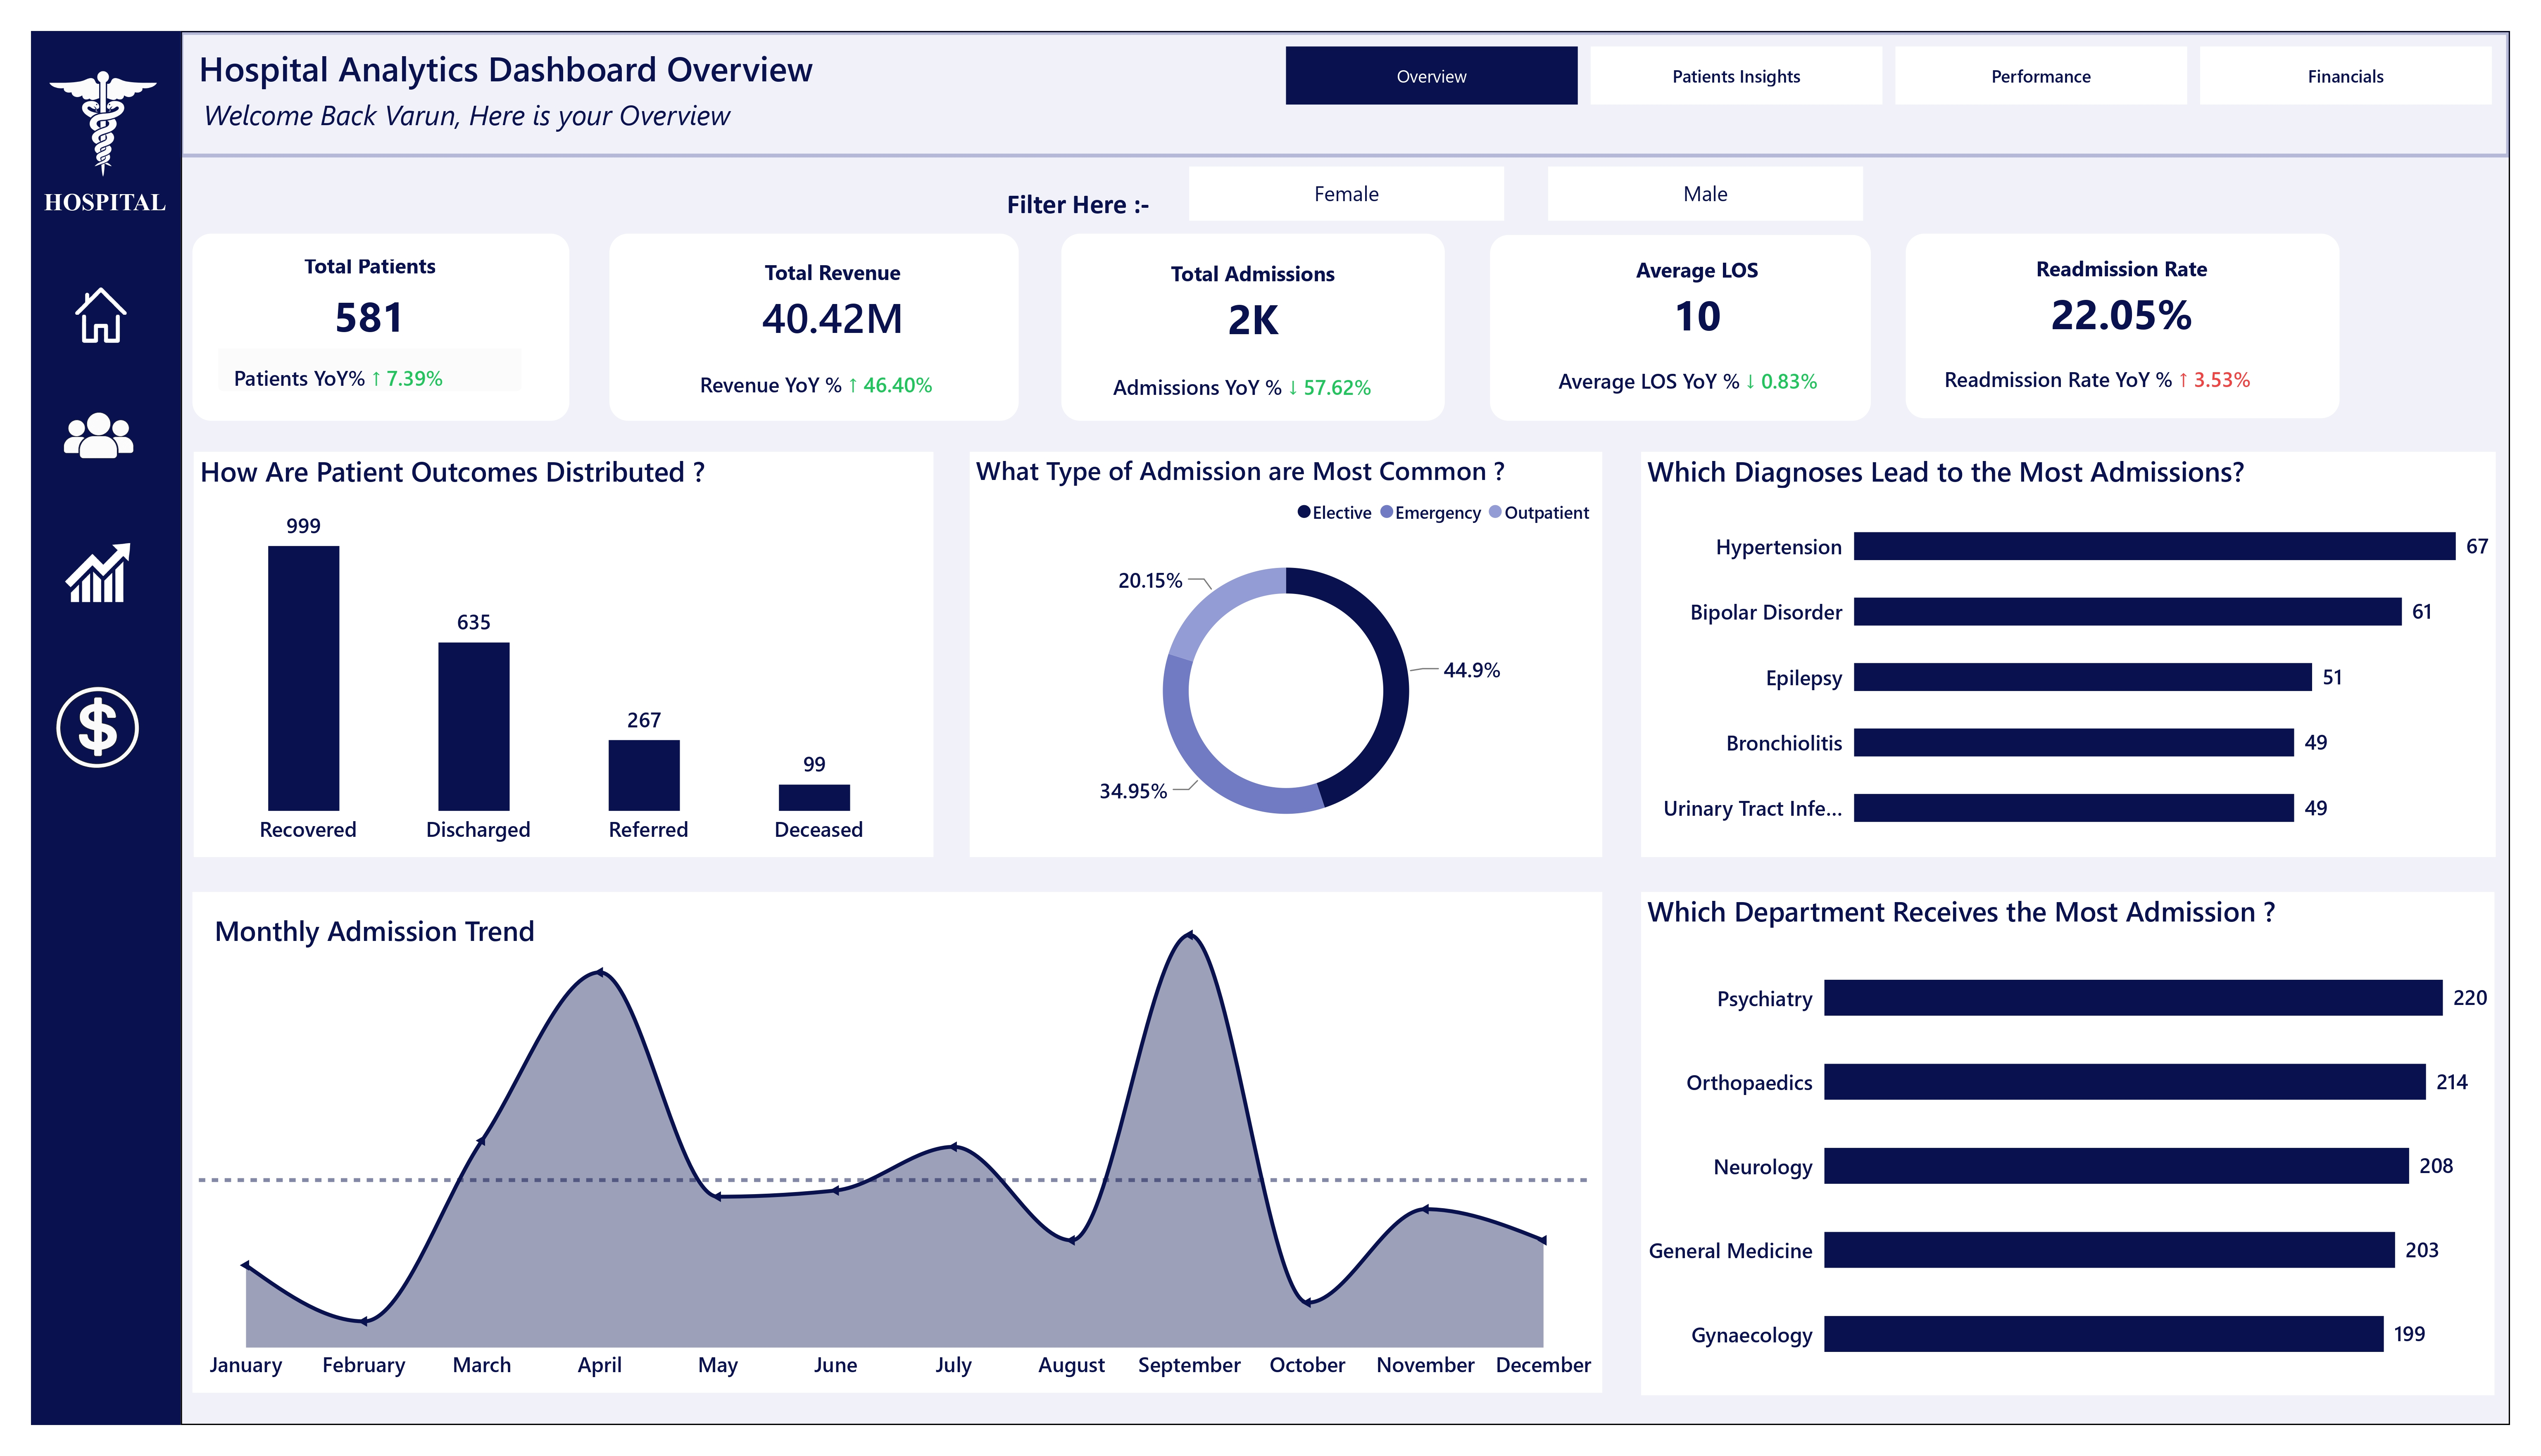

What the dashboard file says about the page in this screenshot:
{"tool":"powerbi","page":{"name":"Overview ","canvas":[1920,1080],"ordinal":0},"visuals":[{"type":"shape","box":[116.2,0,1803.8,1080],"z":0},{"type":"pageNavigator","box":[971.7,11.7,936.7,45],"z":1000},{"type":"advancedSlicerVisual","fields":{"Values":["Dim_Patients.Gender"]},"box":[879.5,86.9,558.3,78.3],"z":2000},{"type":"clusteredColumnChart","title":"How Are Patient Outcomes Distributed ?","fields":{"Category":["Fact_Admissions.PatientOutcome"],"Y":["Fact_Admissions.Total Admissions"]},"box":[125.7,325.7,572.9,314.3],"z":3000},{"type":"donutChart","title":"What Type of Admission are Most Common ?","fields":{"Category":["Fact_Admissions.AdmissionType"],"Y":["Fact_Admissions.Total Admissions"]},"box":[727.1,325.7,490,314.3],"z":4000},{"type":"clusteredBarChart","title":"Which Diagnoses Lead to the Most Admissions?","fields":{"Category":["Fact_Admissions.Diagnosis"],"Y":["Fact_Admissions.Total Admissions"]},"box":[1247.1,325.7,661.4,314.3],"z":5000},{"type":"lineChart","title":"Monthly Admission Trend","fields":{"Category":["Dim_Date.Month Name"],"Y":["Fact_Admissions.Total Admissions"]},"box":[125,666.7,1091.7,388.3],"z":6000},{"type":"shape","box":[125,156.7,291.7,145],"z":7000},{"type":"barChart","title":"Which Department Receives the Most Admission ?","fields":{"Category":["Fact_Admissions.Department"],"Y":["Fact_Admissions.Total Admissions"]},"box":[1246.7,666.7,661.7,390],"z":8000},{"type":"cardVisual","fields":{"Data":["Fact_Admissions.Total Patients"]},"box":[116.7,161.7,291.4,145.7],"z":9000},{"type":"textbox","box":[751,115.8,128.5,59.7],"z":10000},{"type":"image","box":[12.3,360.9,79.6,116.6],"z":11000},{"type":"image","box":[20.6,256.6,63.1,113.9],"z":12000},{"type":"image","box":[0,134.5,108.4,171.5],"z":13000},{"type":"image","box":[16.5,496.7,71.4,86.4],"z":14000},{"type":"textbox","box":[83.8,4.6,568.5,51.5],"z":15000},{"type":"image","box":[12.3,11,87.8,120.8],"z":16000},{"type":"textbox","box":[0,116.6,115.3,34.3],"z":17000},{"type":"shape","box":[448.3,156.7,316.7,145],"z":18000},{"type":"textbox","box":[136.7,676.7,280,55],"z":19000},{"type":"textbox","box":[100,45.4,475.4,52.3],"z":20000},{"type":"cardVisual","fields":{"Data":["Fact_Admissions.Total Revenue"]},"box":[478.3,163.3,285.9,152],"z":21000},{"type":"shape","box":[798.3,156.7,296.7,145],"z":22000},{"type":"cardVisual","fields":{"Data":["Fact_Admissions.Total Admissions"]},"box":[798.3,163.3,296.7,156.7],"z":23000},{"type":"shape","box":[1130,158.3,295,143.3],"z":24000},{"type":"shape","box":[1451.7,156.7,336.7,143.3],"z":25000},{"type":"cardVisual","fields":{"Data":["Fact_Admissions.Average LOS"]},"box":[1143.3,163.3,295,146.7],"z":26000},{"type":"cardVisual","fields":{"Data":["Fact_Admissions.Readmission Rate"]},"box":[1441.7,161.7,355,146.4],"z":27000},{"type":"shape","box":[115,0,1805,97.5],"z":28000}]}

Visuals, with their boxes on the page's 1920x1080 design canvas (x1, y1, x2, y2). These are canvas units, not pixel positions in the 2541x1456 screenshot, which may show the page scaled, cropped or inside an application window:
shape: Rect(116, 0, 1920, 1080)
pageNavigator: Rect(972, 12, 1908, 57)
advancedSlicerVisual - Dim_Patients.Gender: Rect(880, 87, 1438, 165)
"How Are Patient Outcomes Distributed ?" clusteredColumnChart: Rect(126, 326, 699, 640)
"What Type of Admission are Most Common ?" donutChart: Rect(727, 326, 1217, 640)
"Which Diagnoses Lead to the Most Admissions?" clusteredBarChart: Rect(1247, 326, 1908, 640)
"Monthly Admission Trend" lineChart: Rect(125, 667, 1217, 1055)
shape: Rect(125, 157, 417, 302)
"Which Department Receives the Most Admission ?" barChart: Rect(1247, 667, 1908, 1057)
cardVisual - Fact_Admissions.Total Patients: Rect(117, 162, 408, 307)
textbox: Rect(751, 116, 880, 176)
image: Rect(12, 361, 92, 478)
image: Rect(21, 257, 84, 370)
image: Rect(0, 134, 108, 306)
image: Rect(16, 497, 88, 583)
textbox: Rect(84, 5, 652, 56)
image: Rect(12, 11, 100, 132)
textbox: Rect(0, 117, 115, 151)
shape: Rect(448, 157, 765, 302)
textbox: Rect(137, 677, 417, 732)
textbox: Rect(100, 45, 575, 98)
cardVisual - Fact_Admissions.Total Revenue: Rect(478, 163, 764, 315)
shape: Rect(798, 157, 1095, 302)
cardVisual - Fact_Admissions.Total Admissions: Rect(798, 163, 1095, 320)
shape: Rect(1130, 158, 1425, 302)
shape: Rect(1452, 157, 1788, 300)
cardVisual - Fact_Admissions.Average LOS: Rect(1143, 163, 1438, 310)
cardVisual - Fact_Admissions.Readmission Rate: Rect(1442, 162, 1797, 308)
shape: Rect(115, 0, 1920, 98)
